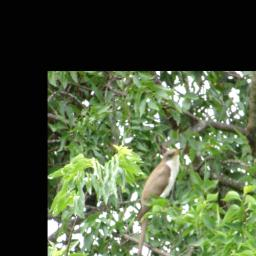Cuckoo: (133, 144, 187, 256)
